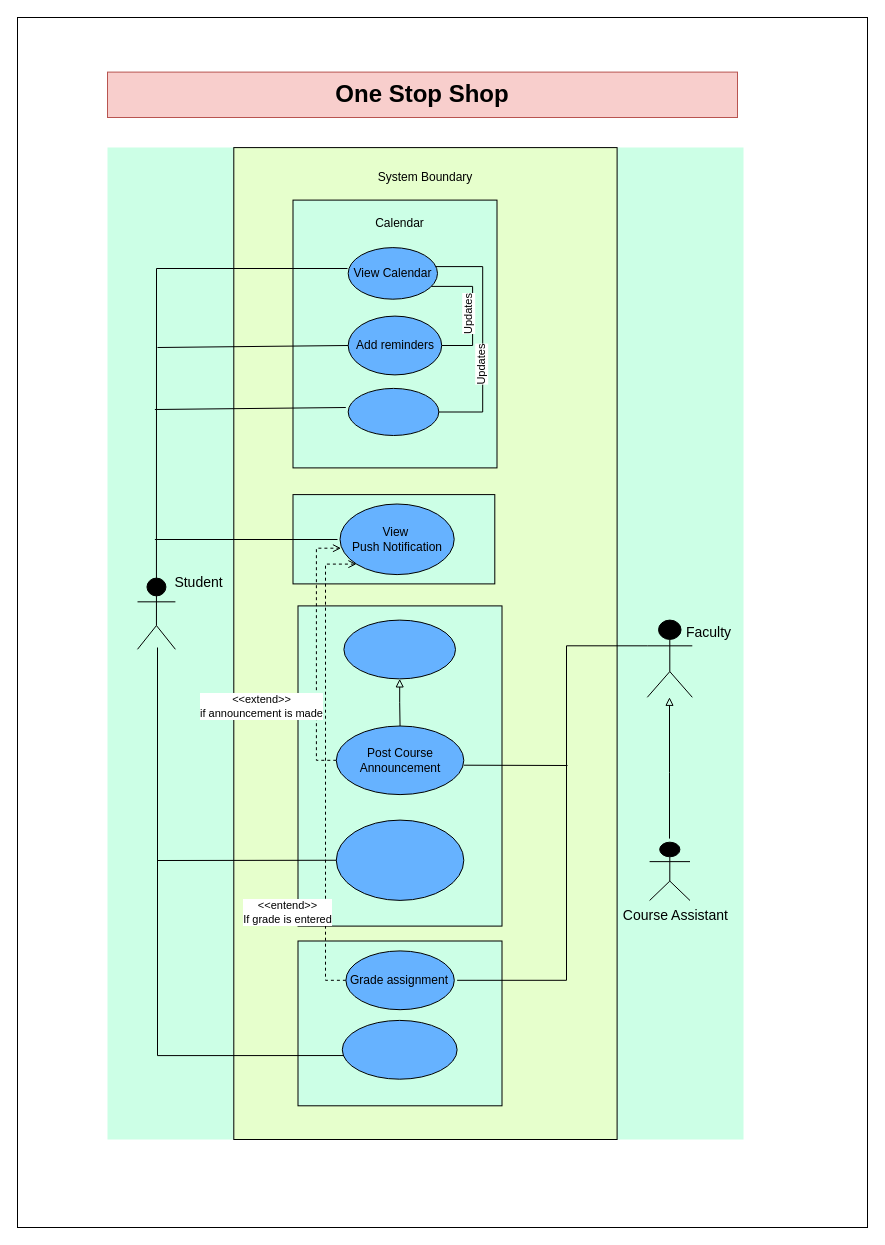
This 885x1245 diagram has some shape labels left out. Here are the shapes that lost their labels. From the top down, the centre of each, then its label:
At [393,411]: "Remove Reminders".
At [399,649]: "Post assignment".
At [399,859]: "View annoucements".
At [399,1049]: "View grades".
